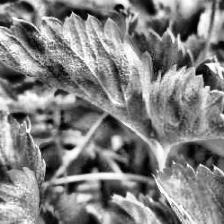Powdery Mildew Leaf: (0, 9, 194, 158), (147, 54, 224, 152), (0, 104, 47, 224)
